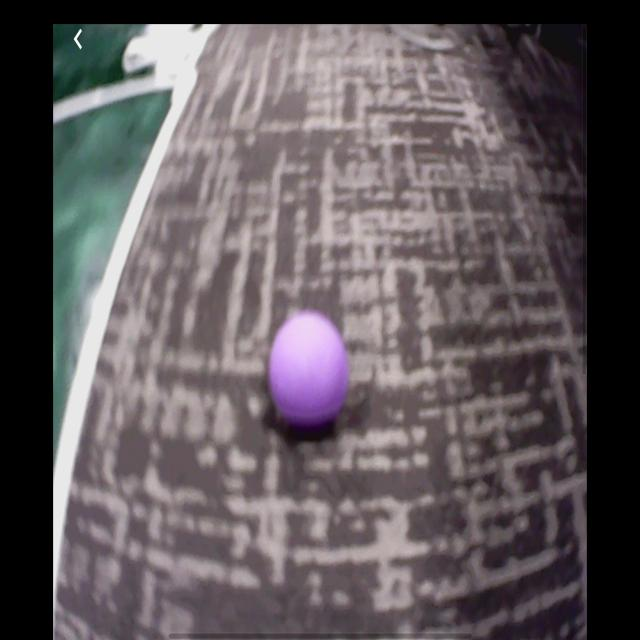ball: (269, 314, 350, 429)
